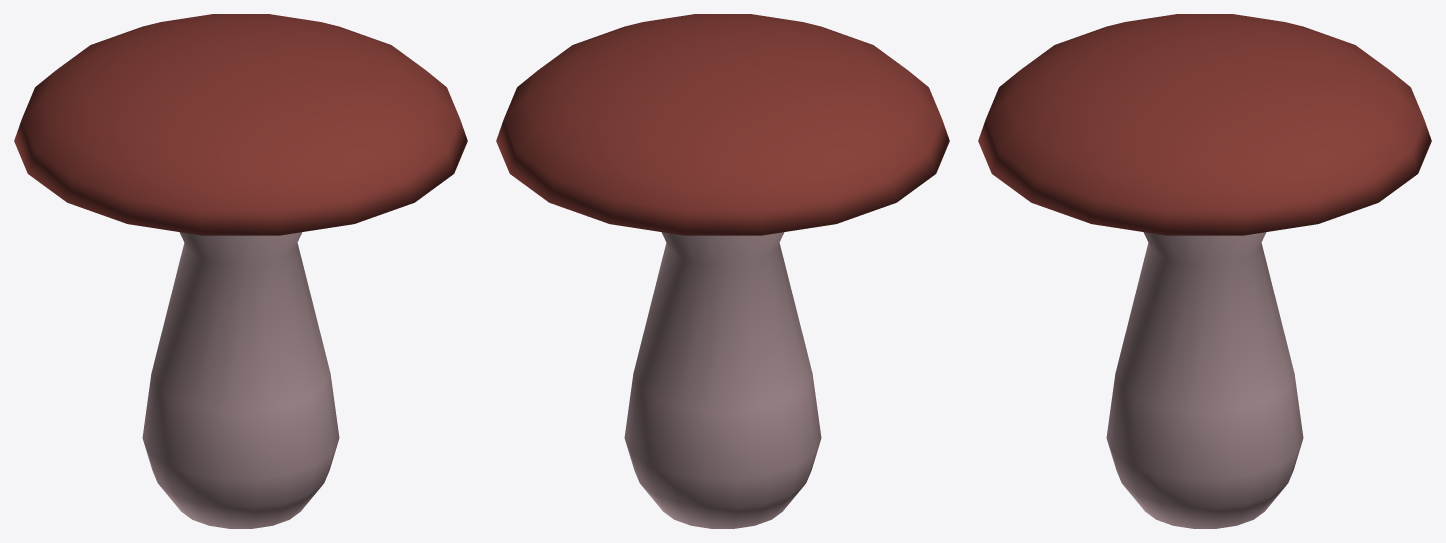
File: MushroomSM_20210127.fbx
The picture shows the model from 3 angles, left to right: view 1: azimuth 30°, elevation 25°; view 2: azimuth 150°, elevation 25°; view 3: azimuth 270°, elevation 25°; orthographic projection.
Parts seen in each view (by area): view 1: mushroom SM; view 2: mushroom SM; view 3: mushroom SM.
Boxes of the visible parts, box(x1,y1,x2,y2) form: mushroom SM: box(14, 14, 467, 528); mushroom SM: box(496, 14, 949, 528); mushroom SM: box(978, 14, 1431, 528).
Size of the model in its own units: 0.1263 by 0.1393 by 0.1282.
